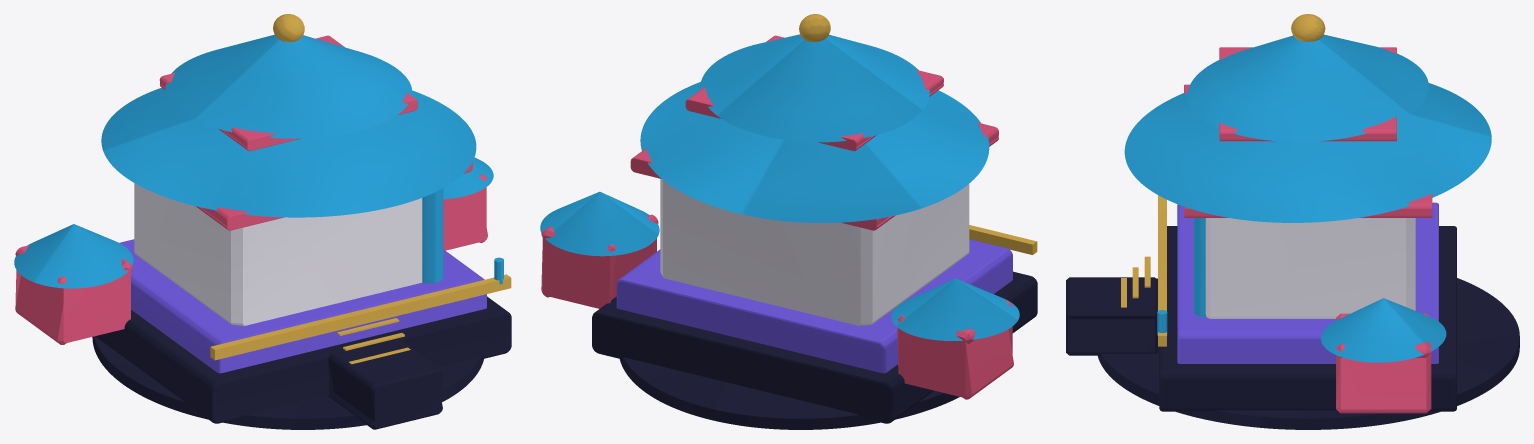
File: 0690_《史记》_咸阳宫.glb
The picture shows the model from 3 angles, left to right: view 1: azimuth 30°, elevation 25°; view 2: azimuth 150°, elevation 25°; view 3: azimuth 270°, elevation 25°; orthographic projection.
Parts seen in each view (by area): view 1: card_0690; view 2: card_0690; view 3: card_0690.
Boxes of the visible parts, x1=… form: card_0690: x1=14, y1=14, x2=511, y2=429; card_0690: x1=540, y1=14, x2=1037, y2=429; card_0690: x1=1066, y1=14, x2=1519, y2=429.
Bounding box in the file's own units: 1.48 × 1 × 1.24.
